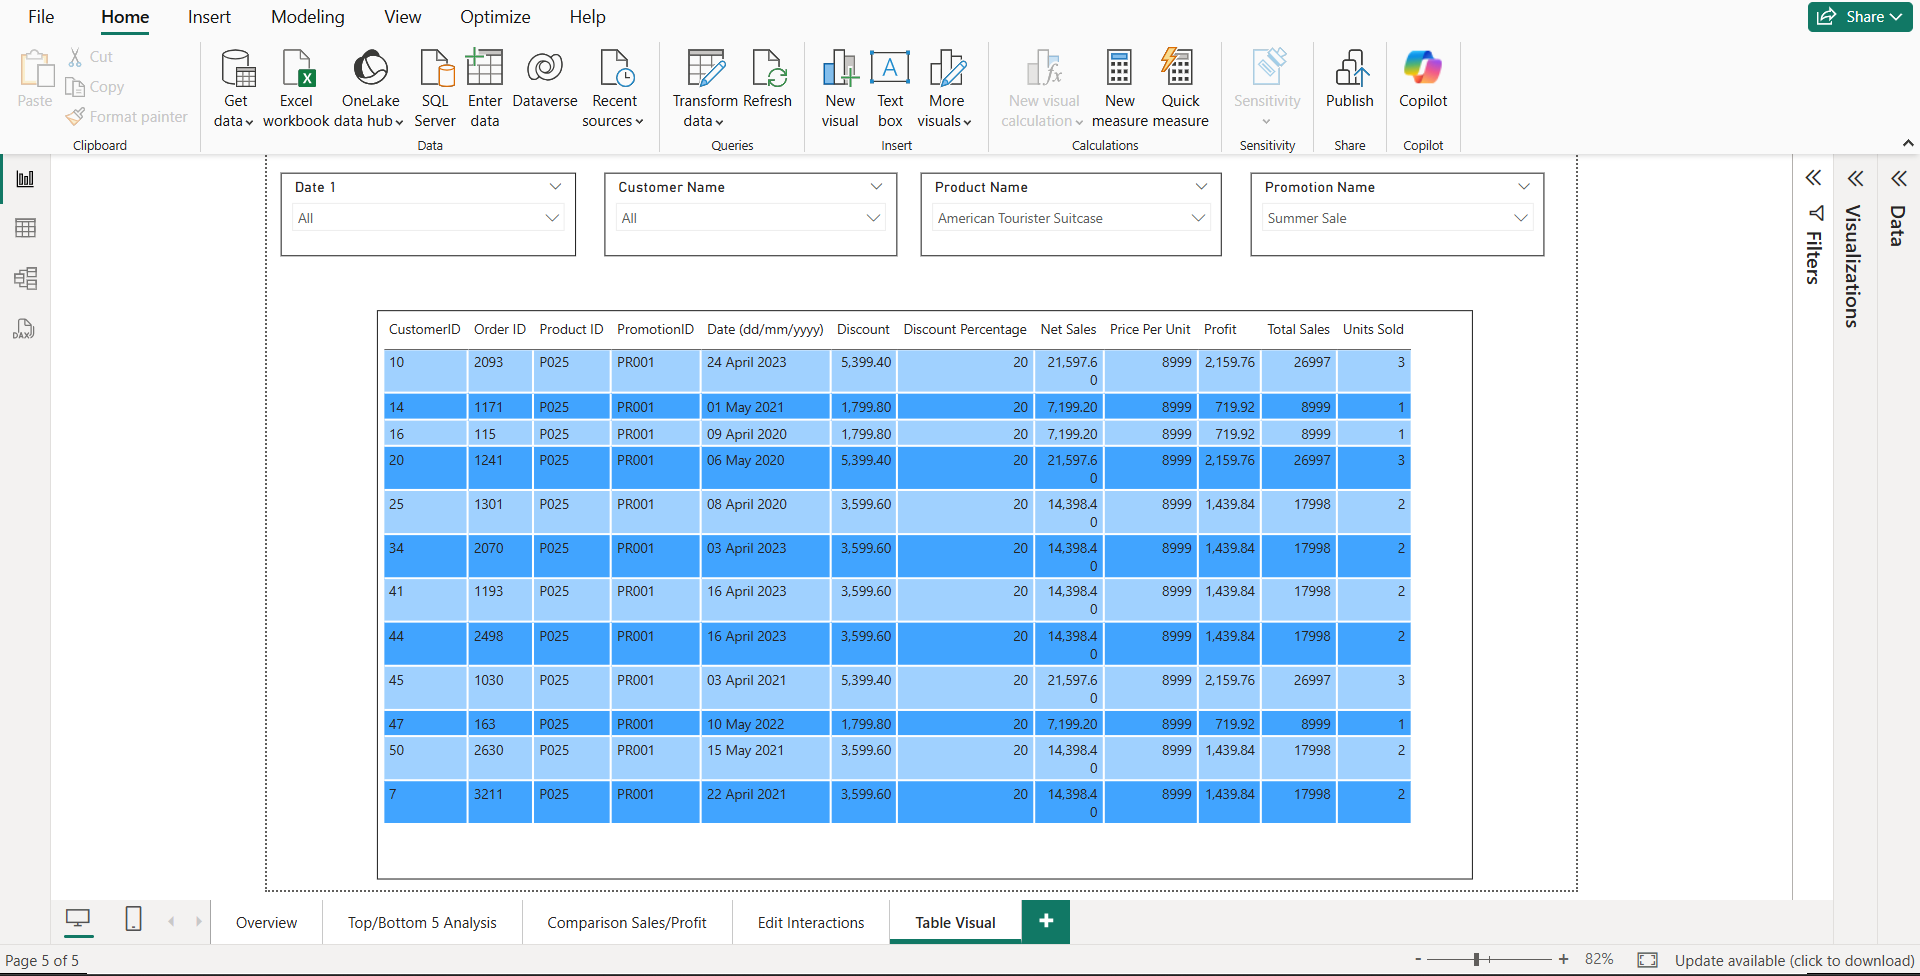

Layout of this report page (visuals, bound fields, positions):
{"tool":"powerbi","page":{"name":"Table Visual","canvas":[1280,720],"ordinal":4},"visuals":[{"type":"tableEx","fields":{"Values":["Fact Table.CustomerID","Fact Table.Order ID","Fact Table.Product ID","Fact Table.PromotionID","Fact Table.Date (dd/mm/yyyy)","Fact Table.Discount","Fact Table.Discount Percentage","Fact Table.Net Sales  ","Fact Table.Price Per Unit","Fact Table.Profit","Fact Table.Total Sales  ","Fact Table.Units Sold"]},"box":[107,152.3,1071.7,557.1],"z":0},{"type":"slicer","fields":{"Values":["Date Table1.Date 1"]},"box":[13.5,18.3,288.6,81.9],"z":1},{"type":"slicer","fields":{"Values":["Dim Customers.Customer Name"]},"box":[330.2,18.3,286.1,81.9],"z":2},{"type":"slicer","fields":{"Values":["Dim Product.Product Name"]},"box":[639.5,18.3,294.7,81.9],"z":3},{"type":"slicer","fields":{"Values":["Dim Promotion.Promotion Name"]},"box":[962.4,18.3,287.4,81.9],"z":4}]}

Visuals, with their boxes on the page's 1280x720 design canvas (x1, y1, x2, y2). These are canvas units, not pixel positions in the 1920x976 screenshot, which may show the page scaled, cropped or inside an application window:
tableEx - Fact Table.CustomerID x Fact Table.Order ID: crop(107, 152, 1179, 709)
slicer - Date Table1.Date 1: crop(14, 18, 302, 100)
slicer - Dim Customers.Customer Name: crop(330, 18, 616, 100)
slicer - Dim Product.Product Name: crop(640, 18, 934, 100)
slicer - Dim Promotion.Promotion Name: crop(962, 18, 1250, 100)
